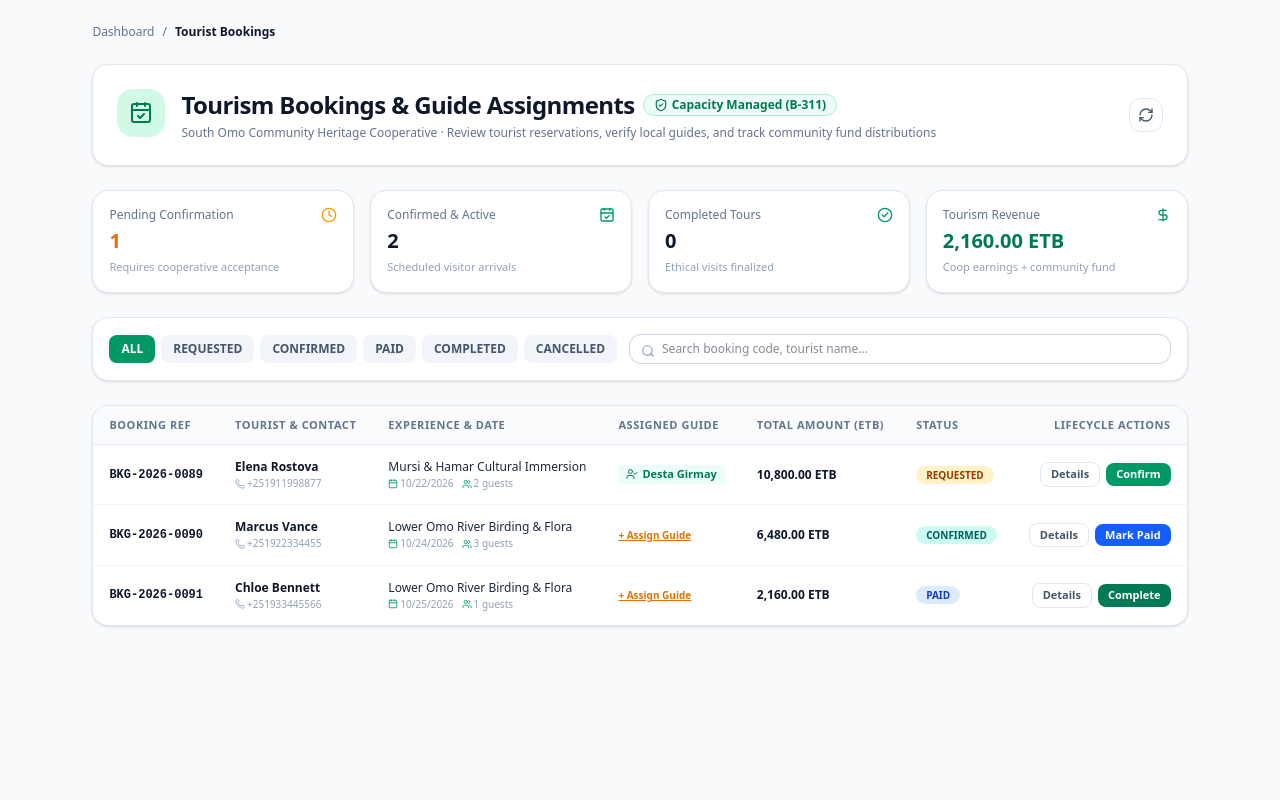
F-912: Tourism Bookings Lifecycle & Guide Assignment › confirms a REQUESTED booking (B-310 lifecycle transition)
Click the button with test id "confirm-booking-btn-book-001" at (1138, 475), box [1106,464,1171,486]
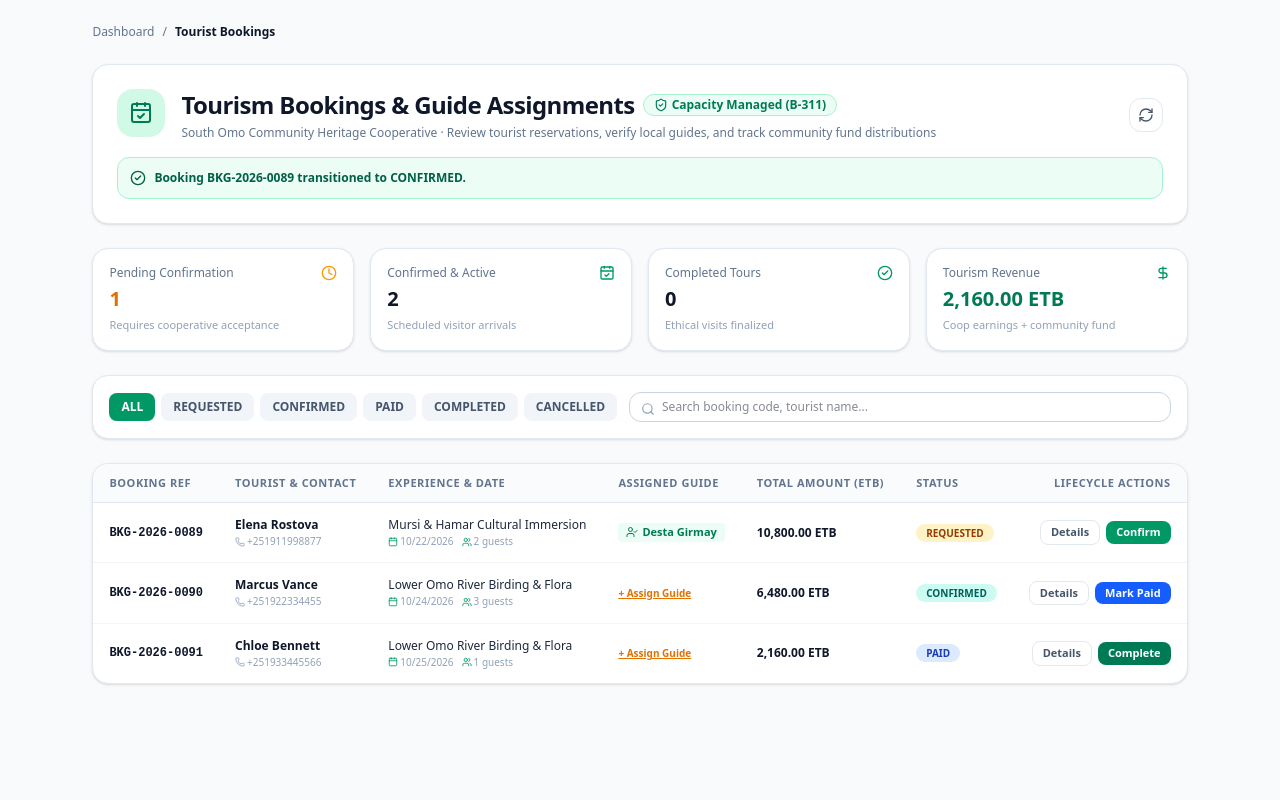
Check: the element with test id "booking-feedback-banner" is shown, box [117,157,1163,199]
